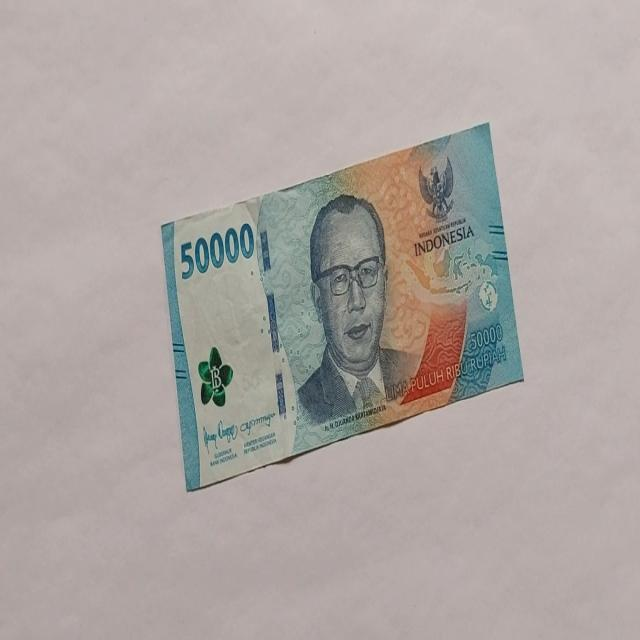lima puluh ribu rupiah: (160, 121, 524, 491), (294, 192, 416, 430), (178, 220, 256, 280)
